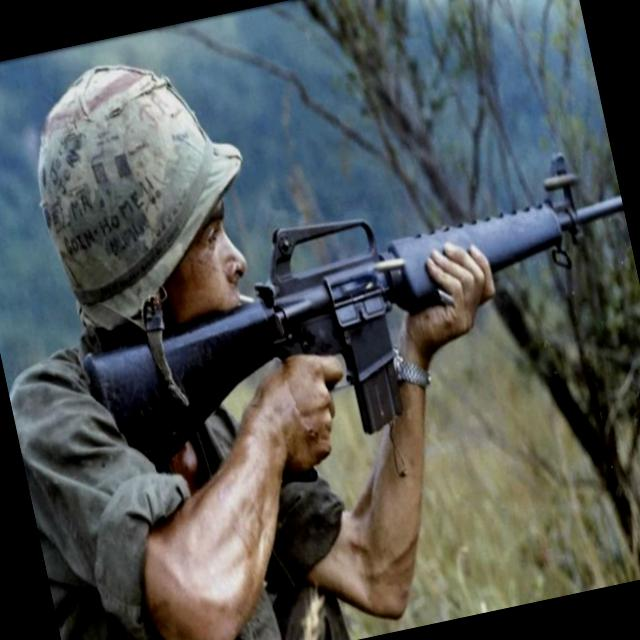long weapon: (238, 132, 620, 421)
